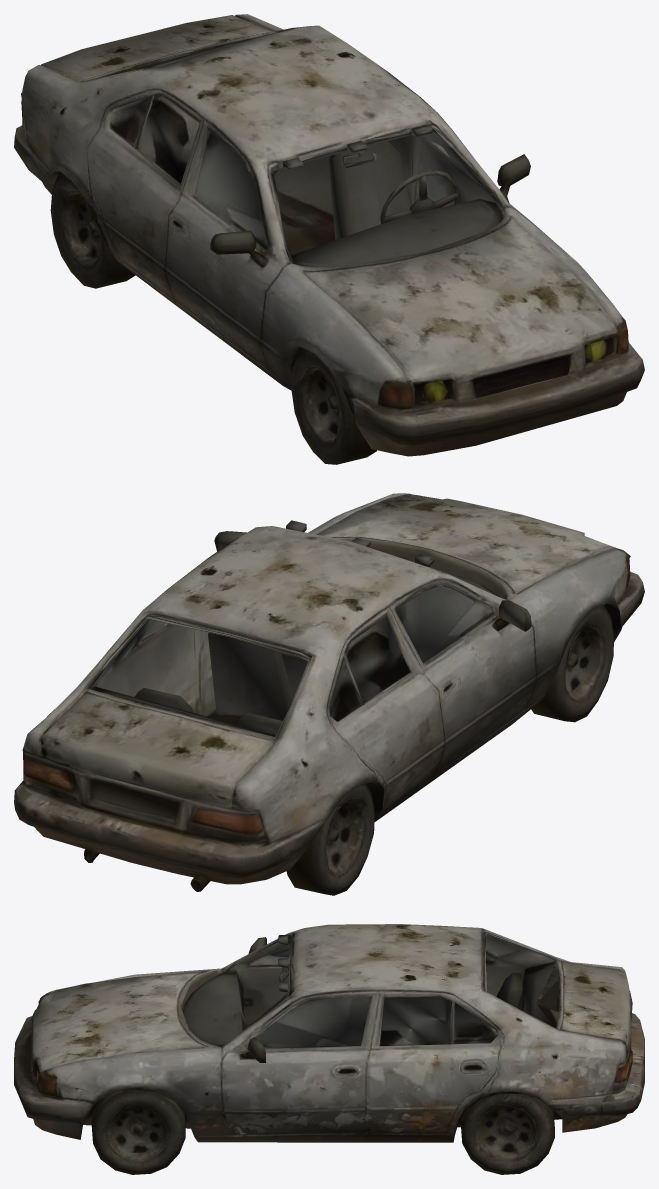
The model's file is abandoned_car.glb.
The picture shows the model from 3 angles, top to bottom: view 1: azimuth 30°, elevation 25°; view 2: azimuth 150°, elevation 25°; view 3: azimuth 270°, elevation 25°; orthographic projection. The views are drawn at different scales.
Visible parts, largest first — view 1: tripo_node_97dd11fe-da7d-45f1-b39a-bb1b11607805; view 2: tripo_node_97dd11fe-da7d-45f1-b39a-bb1b11607805; view 3: tripo_node_97dd11fe-da7d-45f1-b39a-bb1b11607805.
Part boxes in pixels (<box>): tripo_node_97dd11fe-da7d-45f1-b39a-bb1b11607805: <box>14,14,644,464</box>; tripo_node_97dd11fe-da7d-45f1-b39a-bb1b11607805: <box>14,493,644,895</box>; tripo_node_97dd11fe-da7d-45f1-b39a-bb1b11607805: <box>14,924,644,1174</box>.
Size of the model in its own units: 0.4434 by 0.3105 by 0.998.
Materials: 1 (1 with a texture image).
